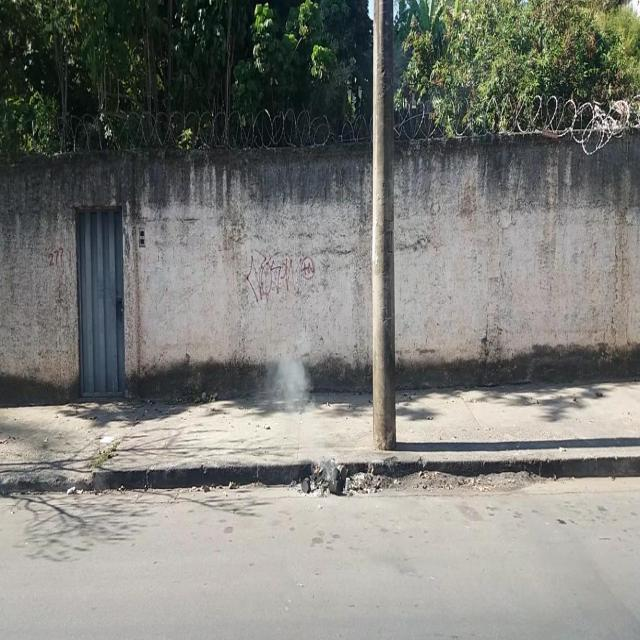Smoke: (276, 346, 315, 408)
